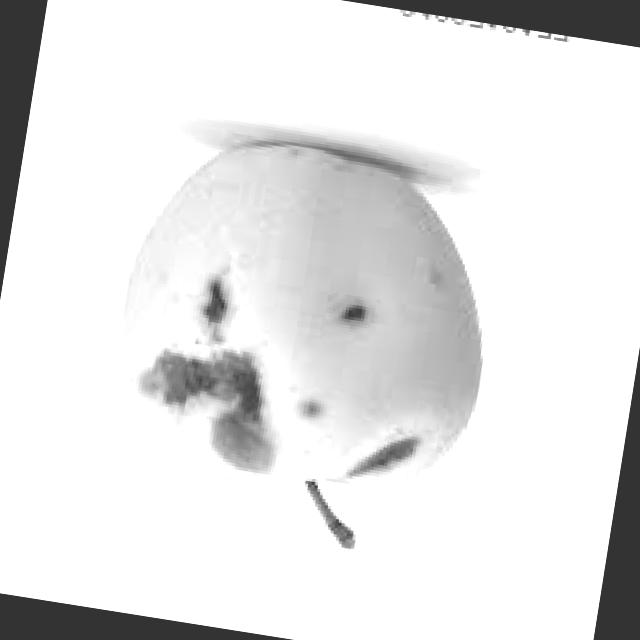Rotten Apple: (102, 119, 511, 519)
